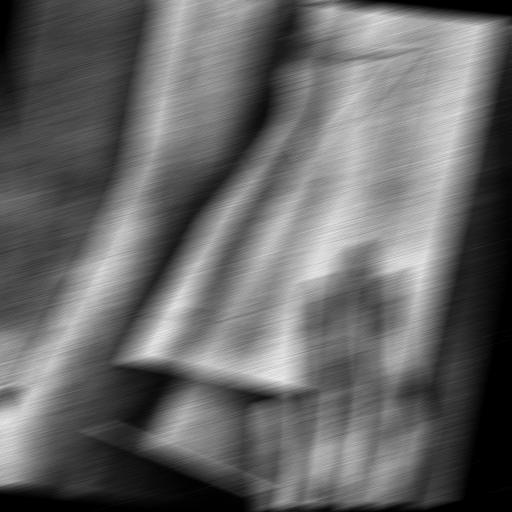bottom_left: (397, 405, 414, 415)
bottom_right: (86, 343, 103, 351)
envelop: (118, 0, 428, 366)
